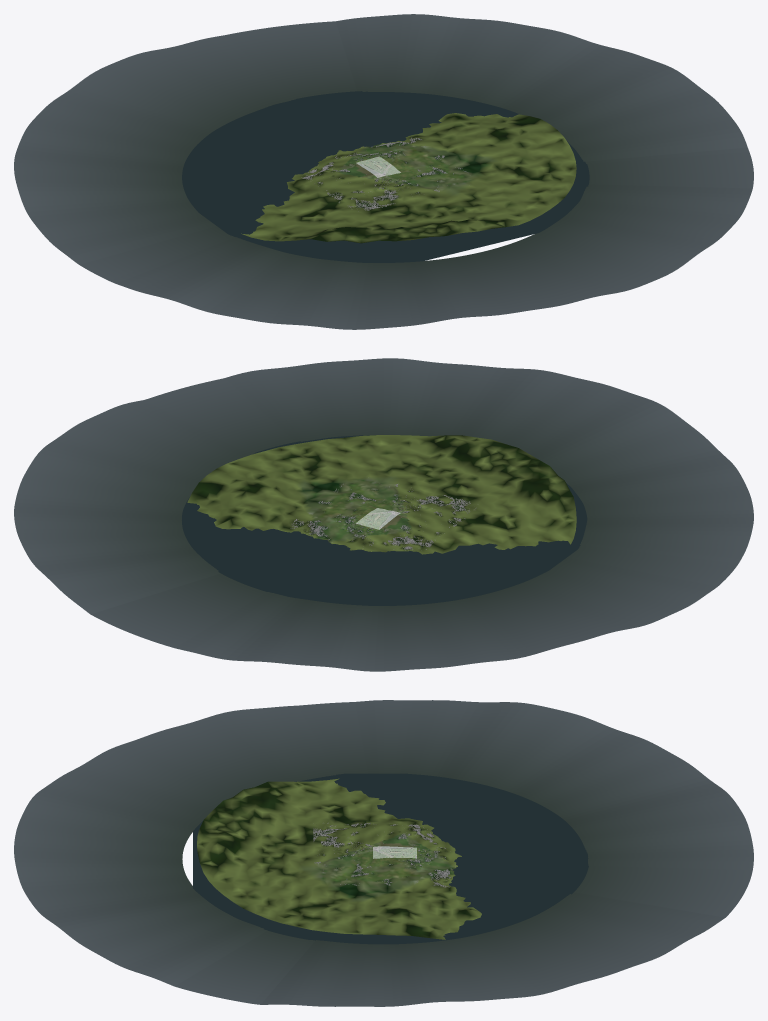
Rendered from byneset_south_01.gltf.
The picture shows the model from 3 angles, top to bottom: view 1: azimuth 30°, elevation 25°; view 2: azimuth 150°, elevation 25°; view 3: azimuth 270°, elevation 25°; orthographic projection.
Parts seen in each view (by area): view 1: FAR_Horizon, SURF_Far, WATER_Sea, FAR_Trees; view 2: FAR_Horizon, SURF_Far, WATER_Sea, FAR_Trees; view 3: FAR_Horizon, SURF_Far, WATER_Sea, FAR_Trees.
Part boxes in pixels (x1,y1,x2,y2): FAR_Horizon: (14,14,753,329); SURF_Far: (241,113,576,243); WATER_Sea: (182,91,589,262); FAR_Trees: (301,137,468,211); FAR_Horizon: (14,358,753,671); SURF_Far: (187,435,576,554); WATER_Sea: (182,435,587,605); FAR_Trees: (290,482,476,550); FAR_Horizon: (14,700,753,1006); SURF_Far: (197,778,481,939); WATER_Sea: (193,773,588,944); FAR_Trees: (313,822,455,887).
Bounding box in the file's own units: 11200 × 291 × 11200.
